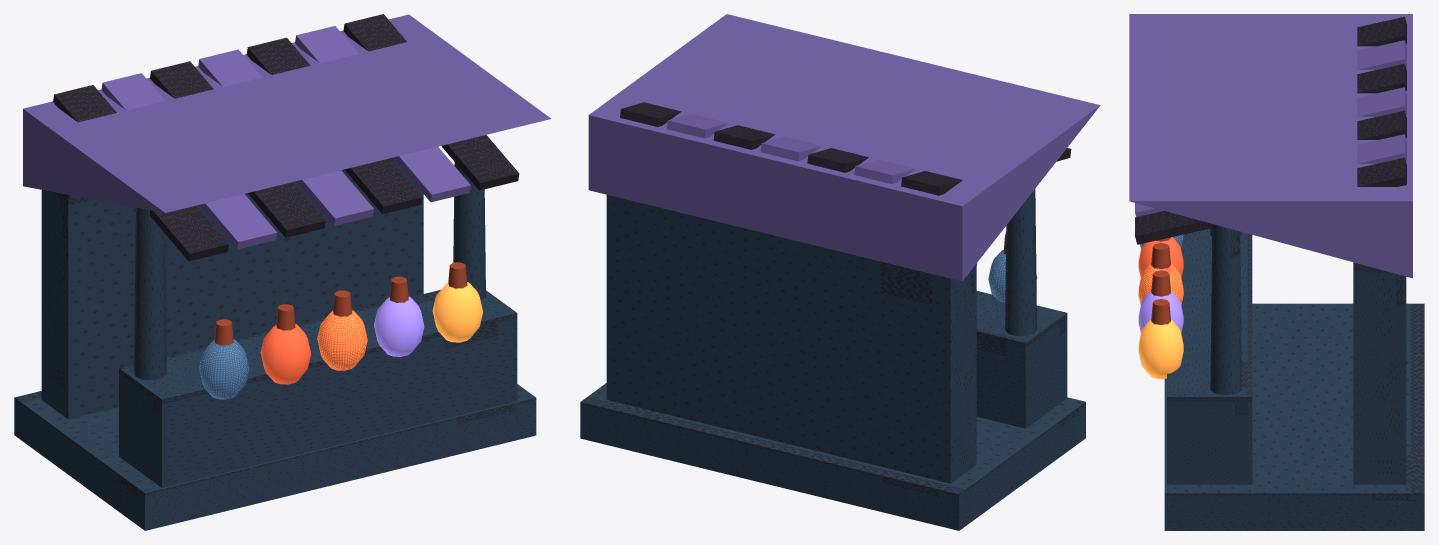
File: batiment-boutique.glb
3 views of the same model, side by side, from view 1: azimuth 30°, elevation 25°; view 2: azimuth 150°, elevation 25°; view 3: azimuth 270°, elevation 25° (orthographic). The views are drawn at different scales.
Parts seen in each view (by area): view 1: AwningTop, BackWall, Counter, Deck, Post-1.55, AwningStripe0, AwningStripe2, AwningStripe6, AwningStripe1, AwningStripe3, AwningStripe4, AwningStripe5 (+6 smaller); view 2: AwningTop, BackWall, Deck, Counter, Post-1.55, AwningStripe0, AwningStripe3, AwningStripe2, AwningStripe4, AwningStripe5, AwningStripe6, AwningStripe1 (+1 smaller); view 3: AwningTop, Deck, Counter, BackWall, Post1.55, AwningStripe6, Bottle4, AwningStripe5, AwningStripe0, AwningStripe2, AwningStripe3, AwningStripe1 (+7 smaller).
Boxes of the visible parts, x1=… form: AwningTop: x1=23, y1=14, x2=551, y2=212; BackWall: x1=41, y1=157, x2=423, y2=419; Counter: x1=119, y1=290, x2=517, y2=487; Deck: x1=14, y1=384, x2=536, y2=530; Post-1.55: x1=133, y1=207, x2=166, y2=380; AwningStripe0: x1=53, y1=85, x2=228, y2=261; AwningStripe2: x1=150, y1=61, x2=325, y2=237; AwningStripe6: x1=343, y1=14, x2=519, y2=190; AwningStripe1: x1=101, y1=73, x2=277, y2=249; AwningStripe3: x1=198, y1=49, x2=373, y2=225; AwningStripe4: x1=246, y1=37, x2=422, y2=213; AwningStripe5: x1=295, y1=26, x2=470, y2=202; AwningTop: x1=588, y1=14, x2=1100, y2=281; BackWall: x1=606, y1=195, x2=976, y2=483; Deck: x1=580, y1=383, x2=1085, y2=530; Counter: x1=976, y1=291, x2=1067, y2=428; Post-1.55: x1=1005, y1=189, x2=1036, y2=336; AwningStripe0: x1=901, y1=148, x2=1071, y2=195; AwningStripe3: x1=760, y1=136, x2=822, y2=161; AwningStripe2: x1=807, y1=148, x2=868, y2=172; AwningStripe4: x1=713, y1=125, x2=775, y2=149; AwningStripe5: x1=666, y1=113, x2=728, y2=138; AwningStripe6: x1=620, y1=102, x2=681, y2=126; AwningStripe1: x1=854, y1=159, x2=915, y2=183; AwningTop: x1=1129, y1=14, x2=1412, y2=278; Deck: x1=1164, y1=303, x2=1424, y2=530; Counter: x1=1167, y1=228, x2=1252, y2=484; BackWall: x1=1353, y1=262, x2=1406, y2=484; Post1.55: x1=1210, y1=224, x2=1241, y2=394; AwningStripe6: x1=1135, y1=157, x2=1406, y2=244; Bottle4: x1=1138, y1=319, x2=1183, y2=379; AwningStripe5: x1=1135, y1=134, x2=1406, y2=216; AwningStripe0: x1=1357, y1=16, x2=1406, y2=46; AwningStripe2: x1=1357, y1=63, x2=1406, y2=93; AwningStripe3: x1=1357, y1=87, x2=1406, y2=116; AwningStripe1: x1=1357, y1=40, x2=1406, y2=69.
Size of the model in its own units: 5.53 by 4.6 by 3.64.
3 materials, 3 textured.
